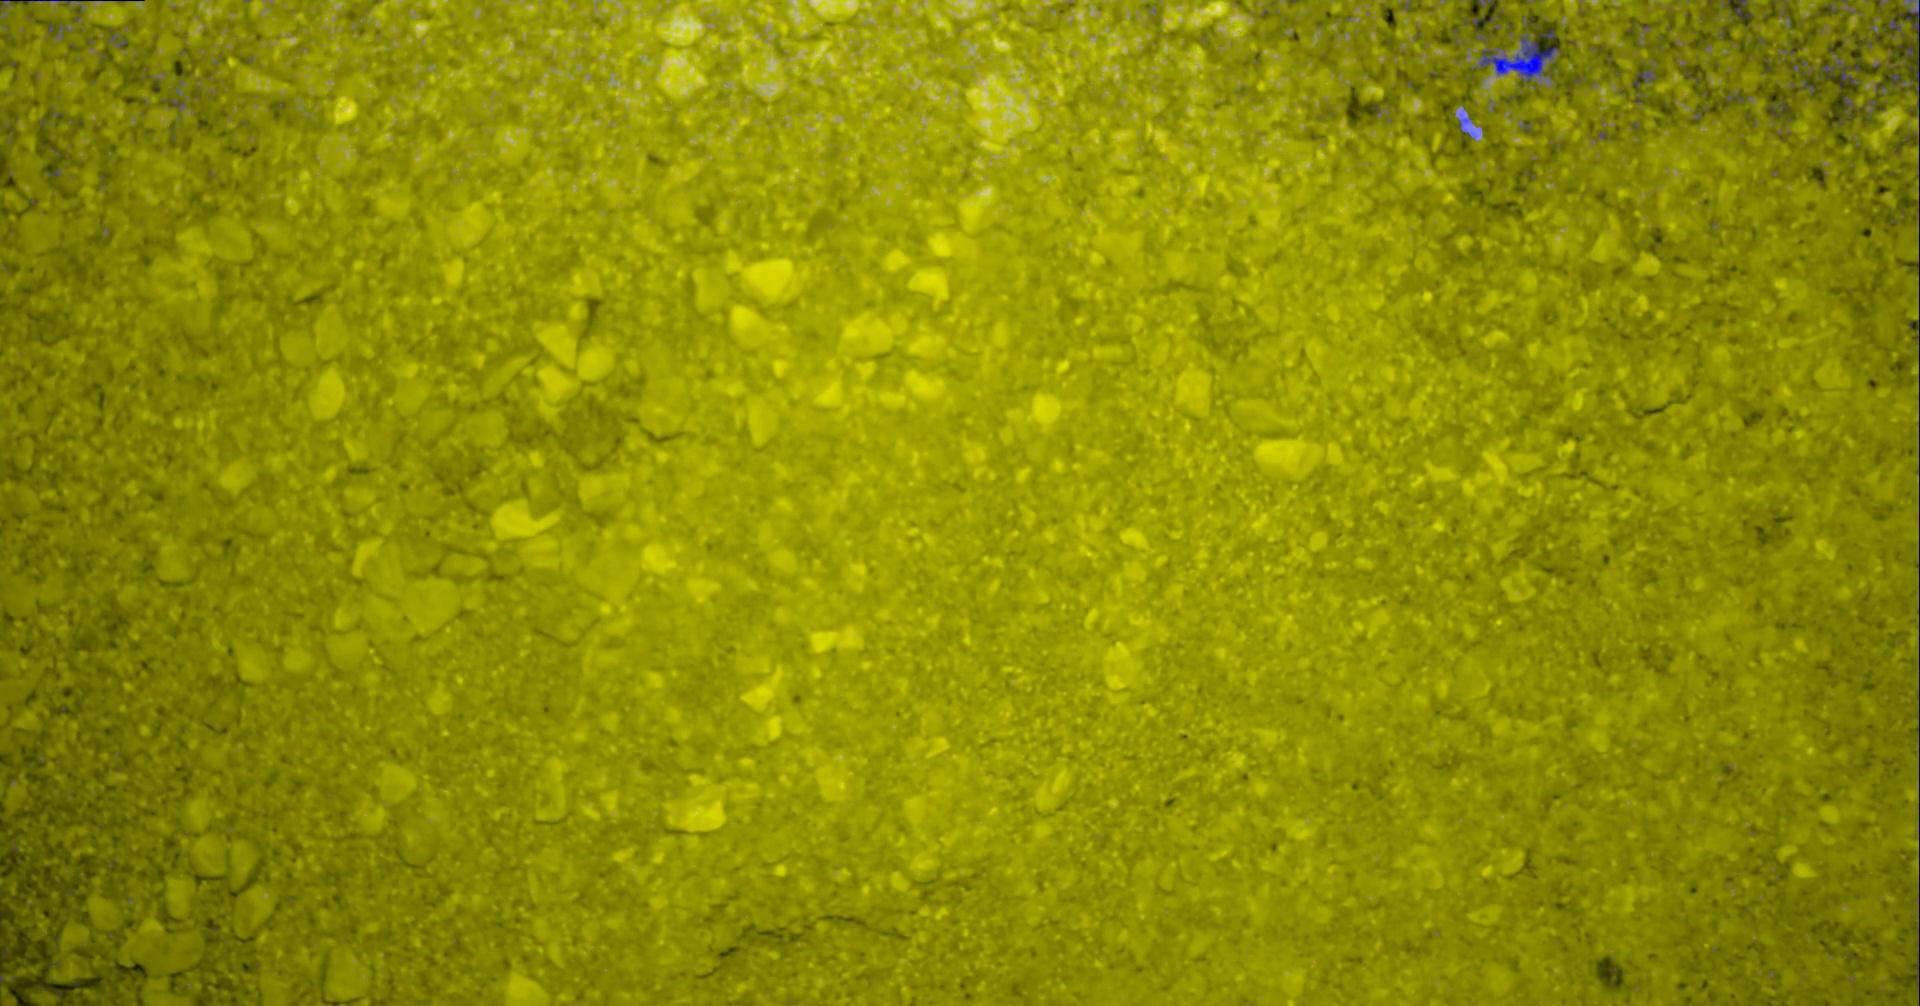ant: (1903, 0, 1919, 116), (1821, 58, 1859, 91), (0, 0, 70, 10), (1465, 15, 1492, 30), (1733, 0, 1752, 19), (1769, 97, 1788, 116), (1633, 71, 1655, 86), (1917, 941, 1919, 1001)
